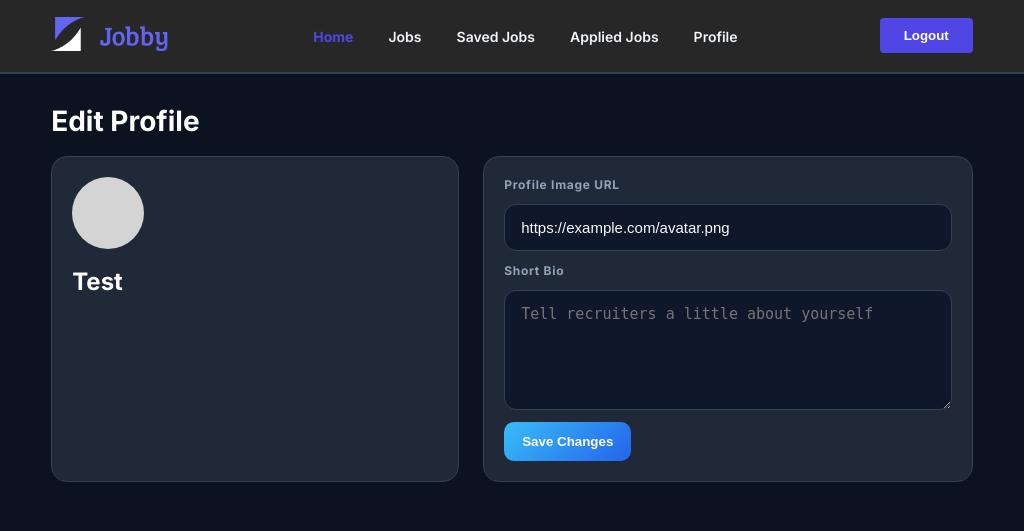
Test: ProfilePage validation › shows validation error for invalid URL
The image size is (1024, 531).
Clear the text box with placeholder "Tell recruiters a little about yourself" at {"x": 728, "y": 350}, box [504,290,952,410]
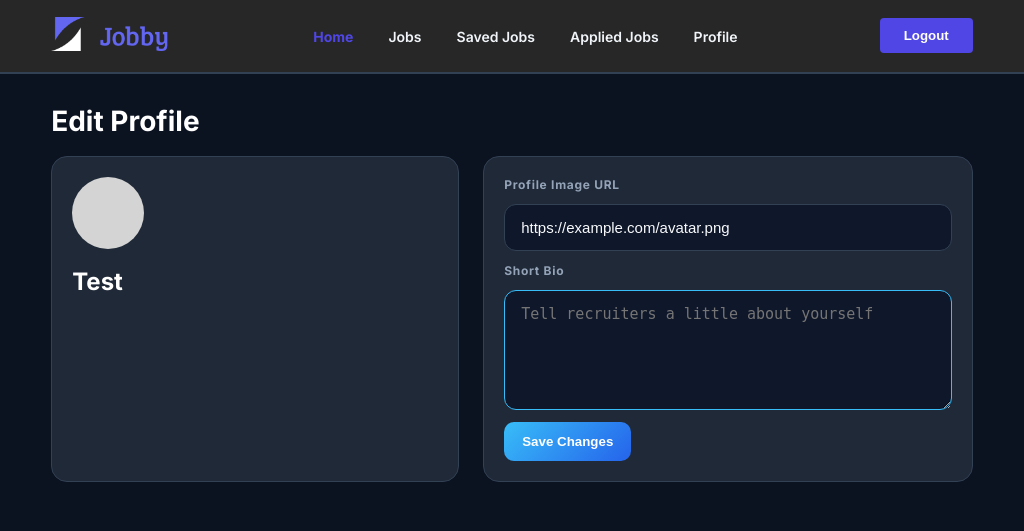
Click the button "Save Changes" at {"x": 568, "y": 441}, box [504,422,631,460]
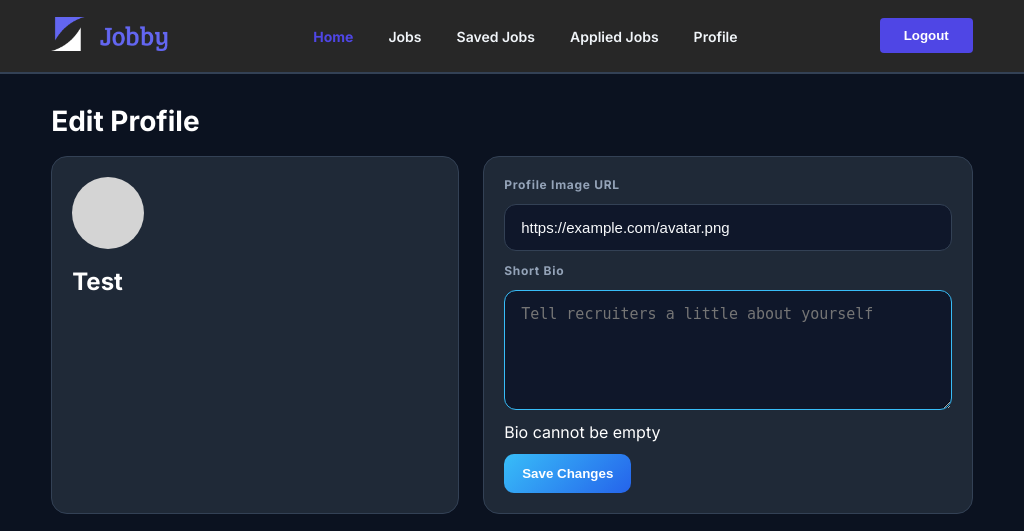
Expected: the text "Bio cannot be empty" is shown, [504,422,660,442]
